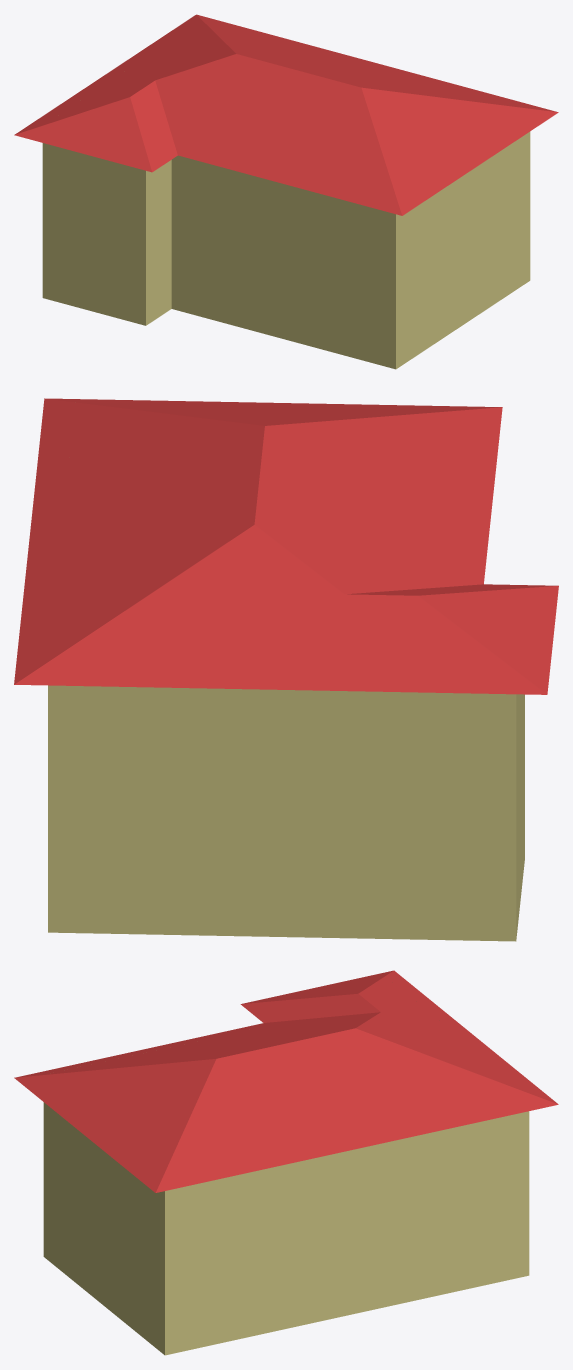
The picture shows the model from 3 angles, top to bottom: view 1: azimuth 30°, elevation 25°; view 2: azimuth 150°, elevation 25°; view 3: azimuth 270°, elevation 25°; orthographic projection. The views are drawn at different scales.
Bounding box in the file's own units: 18.05 × 18.67 × 8.4.
